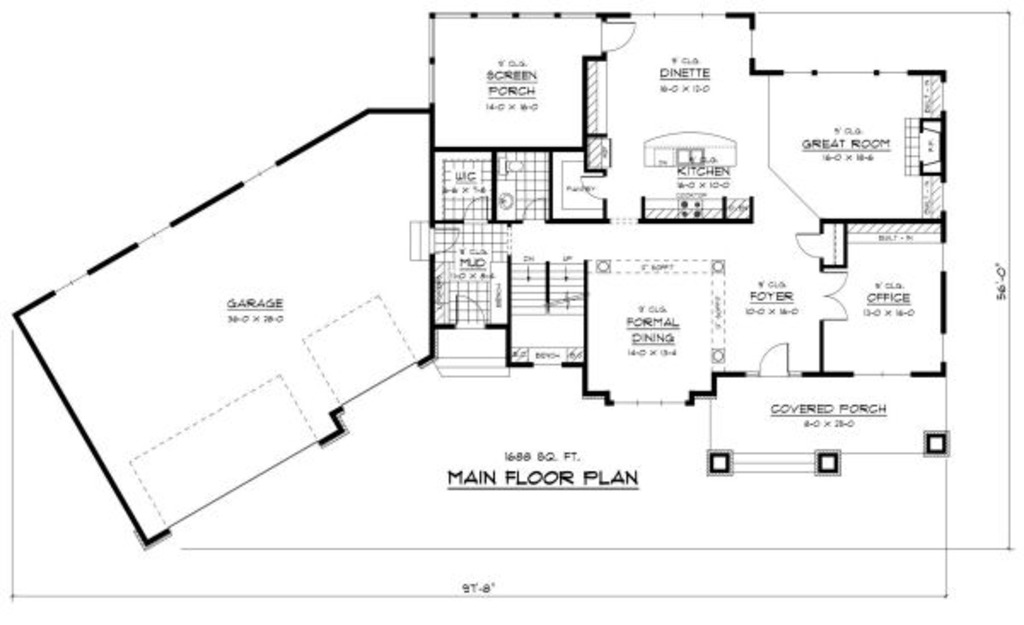door: (818, 264, 851, 326), (599, 17, 643, 54), (449, 290, 485, 329), (755, 338, 790, 376), (579, 172, 610, 202), (794, 229, 825, 256), (460, 195, 491, 221)
kitchen_bar: (637, 130, 742, 172)
small_sink: (493, 180, 516, 221)
stairs: (509, 256, 587, 370)
windows: (779, 65, 908, 79), (611, 394, 687, 408), (852, 369, 914, 381)
